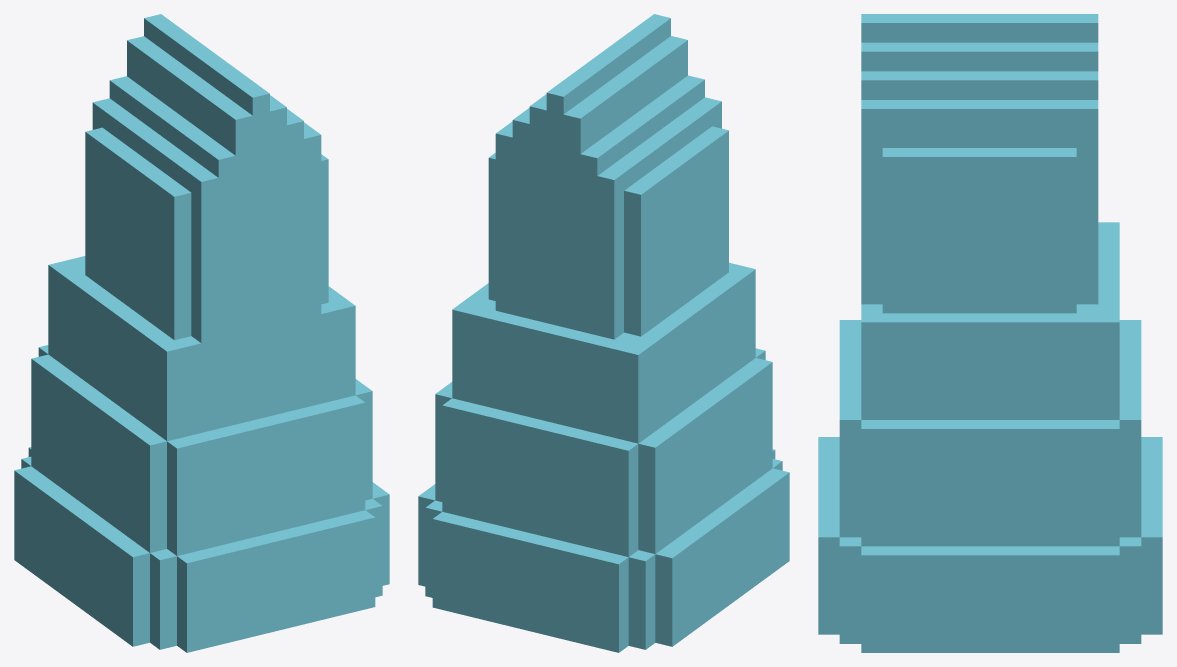
Rendered from ice shard.gltf.
The picture shows the model from 3 angles, left to right: view 1: azimuth 30°, elevation 25°; view 2: azimuth 150°, elevation 25°; view 3: azimuth 270°, elevation 25°; orthographic projection. The views are drawn at different scales.
Parts seen in each view (by area): view 1: Layer.1; view 2: Layer.1; view 3: Layer.1.
Boxes of the visible parts, <box> form: Layer.1: <box>14,14,389,652</box>; Layer.1: <box>418,14,789,652</box>; Layer.1: <box>818,14,1162,652</box>.
Bounding box in the file's own units: 15 × 29 × 16.
Materials: 1 (1 with a texture image).
